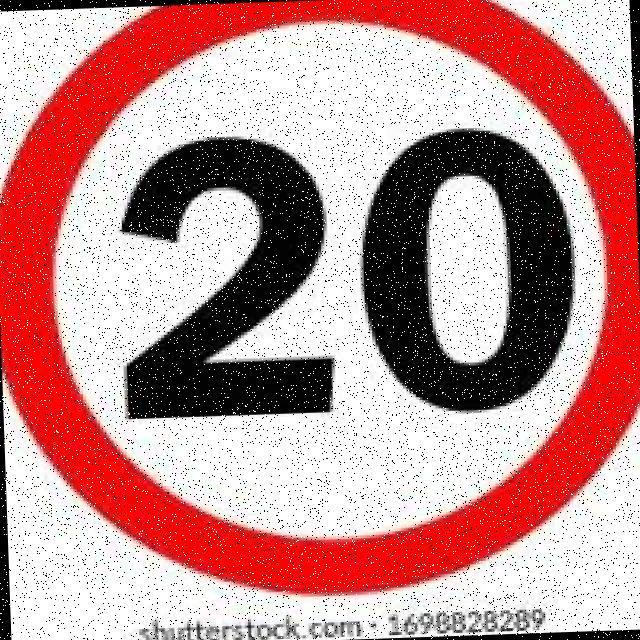speed_limit_20: (0, 0, 640, 600)
